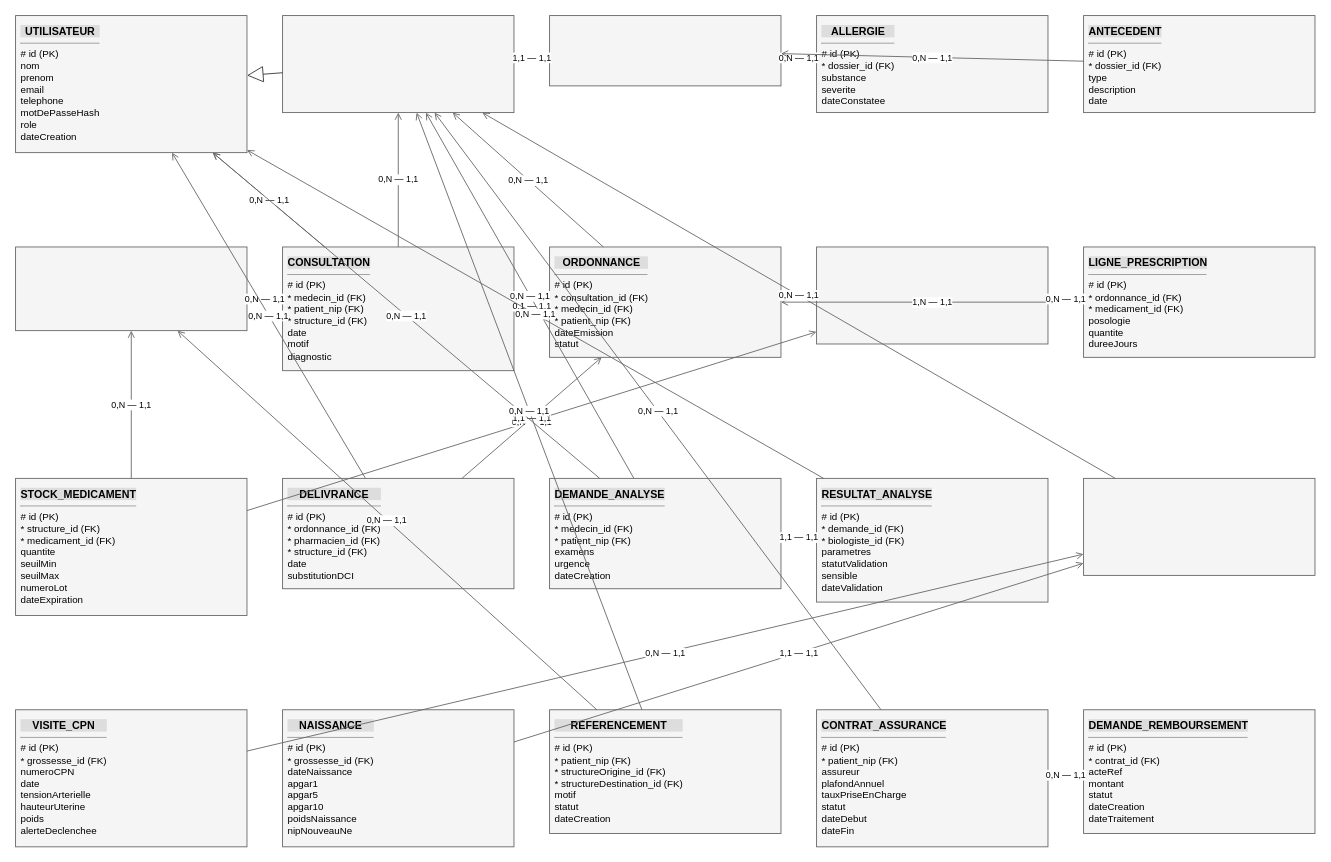
This 1331x862 diagram has some shape labels left out. The centre of each missing label's shape, as x and y in pixels:
"DOSSIER_MEDICAL # id (PK) * patient_nip (FK) dateCreation" goes at point (665, 50).
"GROSSESSE # id (PK) * patiente_nip (FK) dateDebut dpa statutRisque" goes at point (1199, 526).
"MEDICAMENT # id (PK) nom dci forme prix" goes at point (932, 295).
"PATIENT # nip (PK) dateNaissance sexe groupeSanguin adresse" goes at point (398, 64).
"STRUCTURE # id (PK) nom type localisation" goes at point (131, 288).
